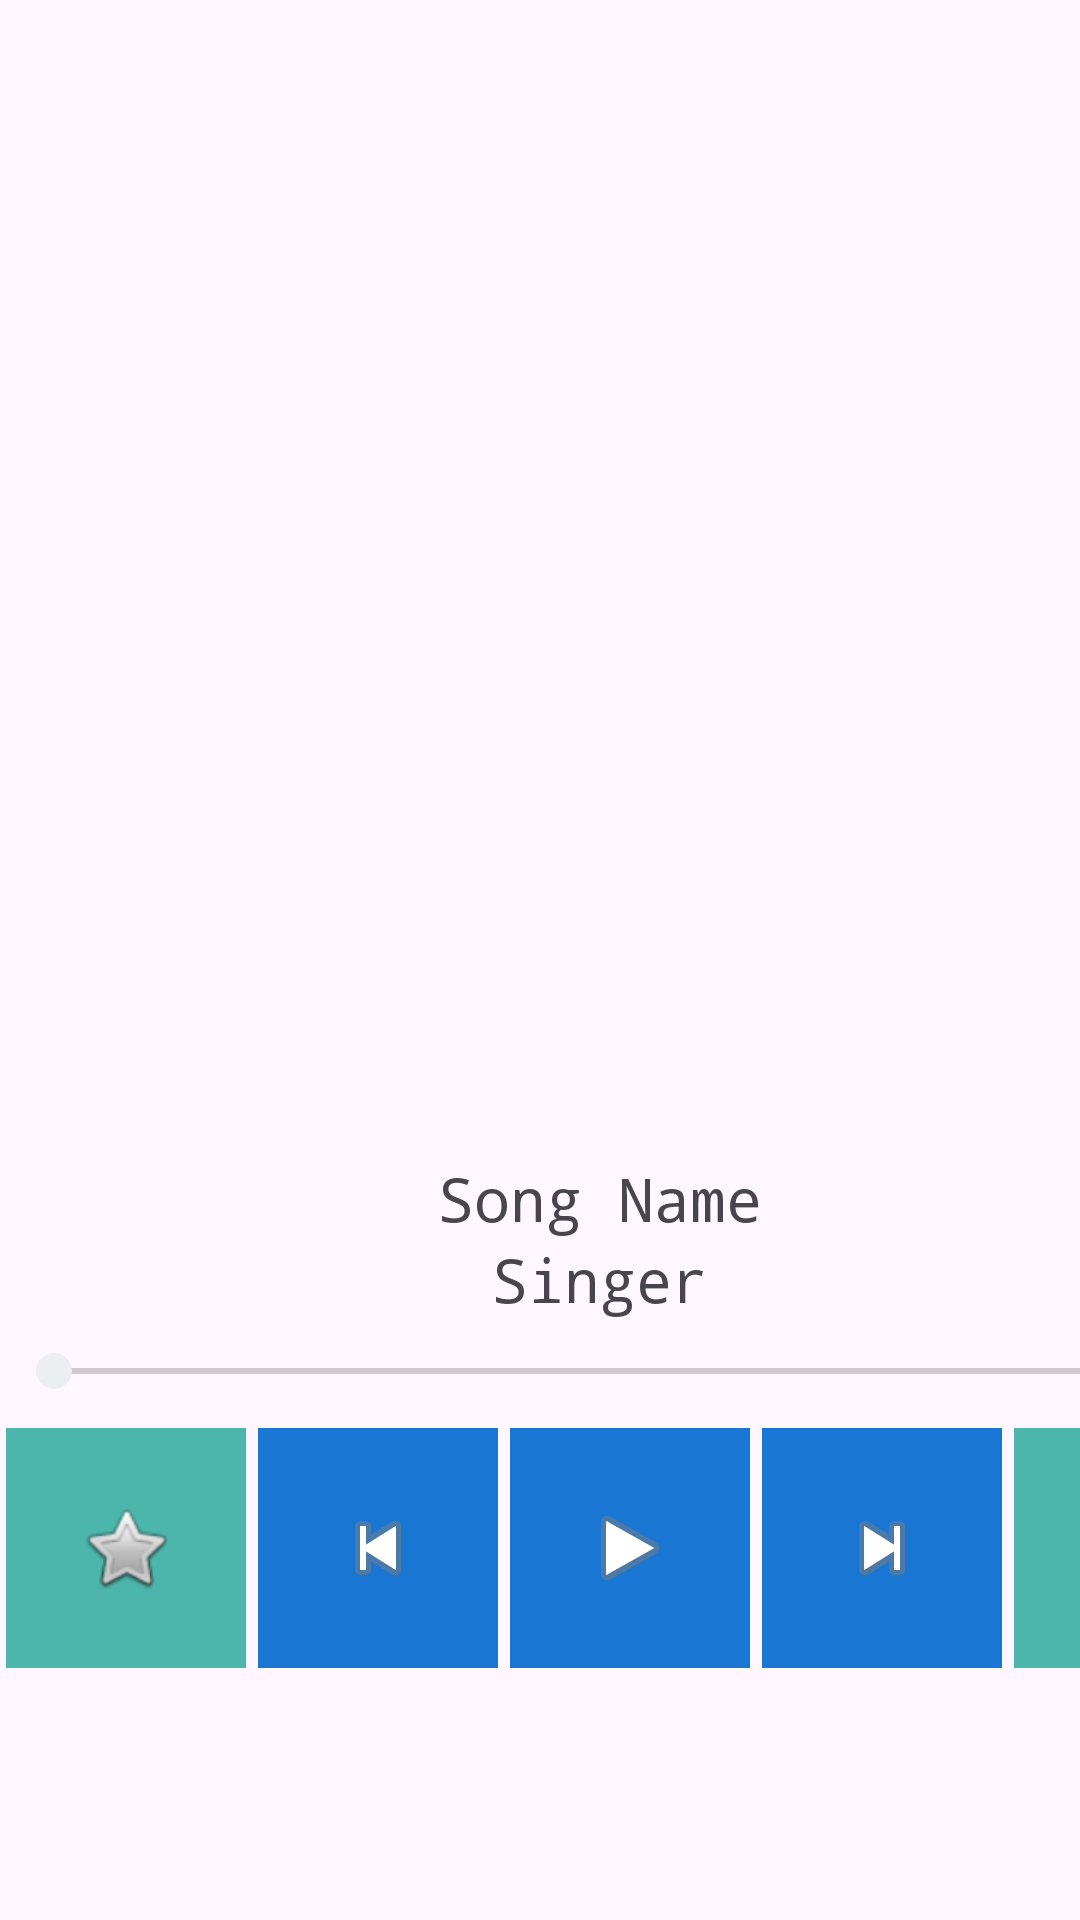

Named icons in this screenshot (1080x1920) and their bounding boxes, (x1, y1, x2, y2):
next: (762, 1428, 1002, 1668)
play: (510, 1428, 750, 1668)
previous: (258, 1428, 498, 1668)
star: (6, 1428, 246, 1668)
